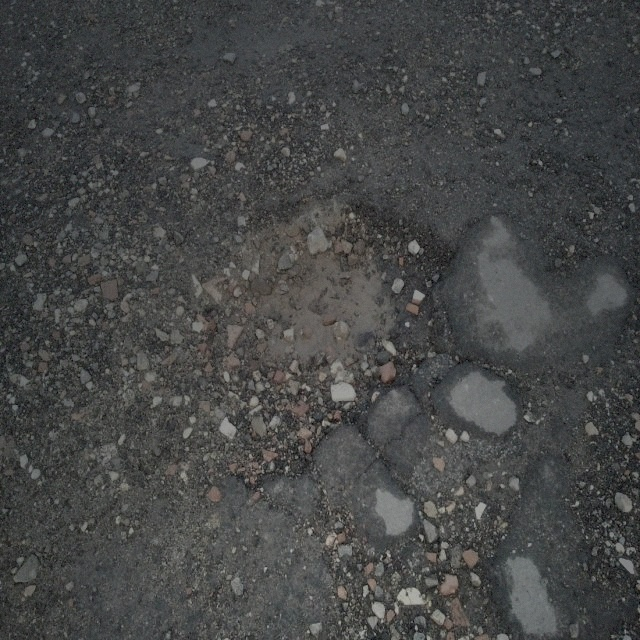pothole: (193, 179, 458, 502)
